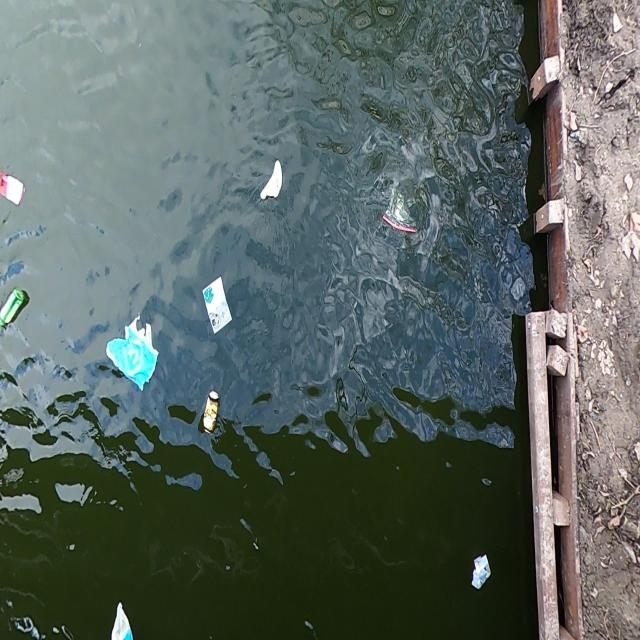Non plastique: (200, 386, 223, 439)
Sac plastique: (104, 308, 160, 397), (380, 183, 424, 241)
